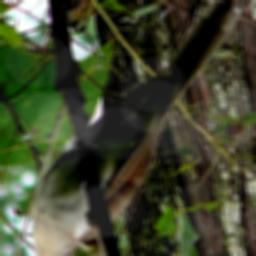Cuckoo: (26, 0, 241, 256)
